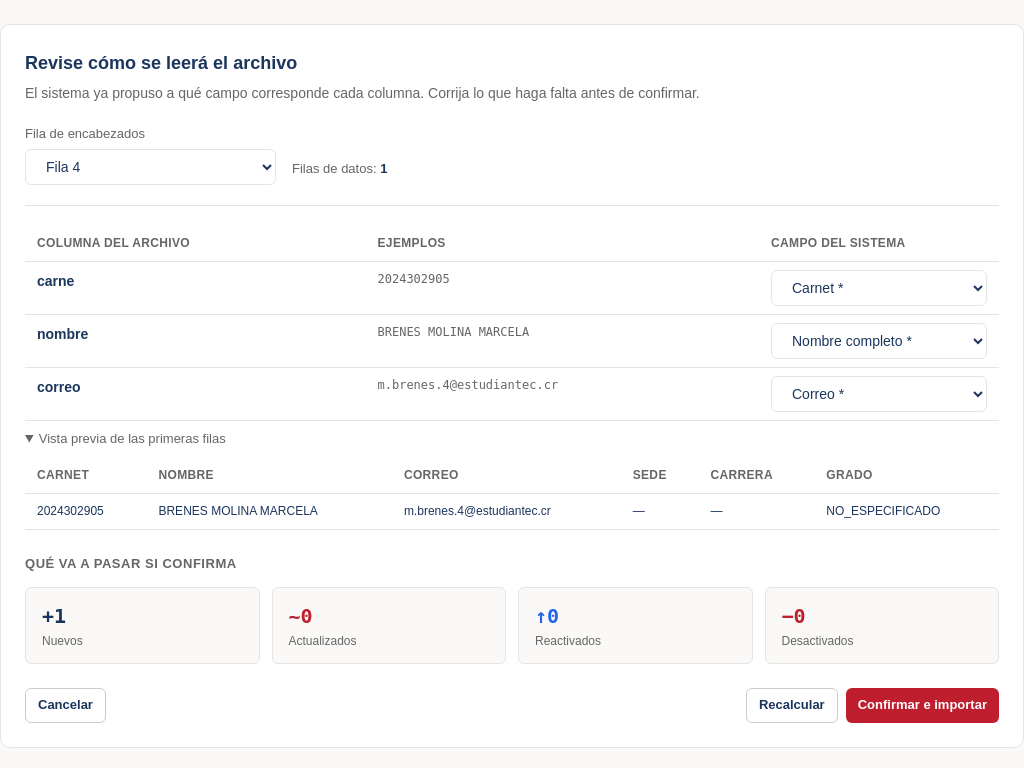
ColumnMapper › avisa y bloquea cuando falta un campo obligatorio
Select "— No importar —" in the dropdown named "Campo para la columna carne" at [879, 288], box [771, 270, 987, 306]
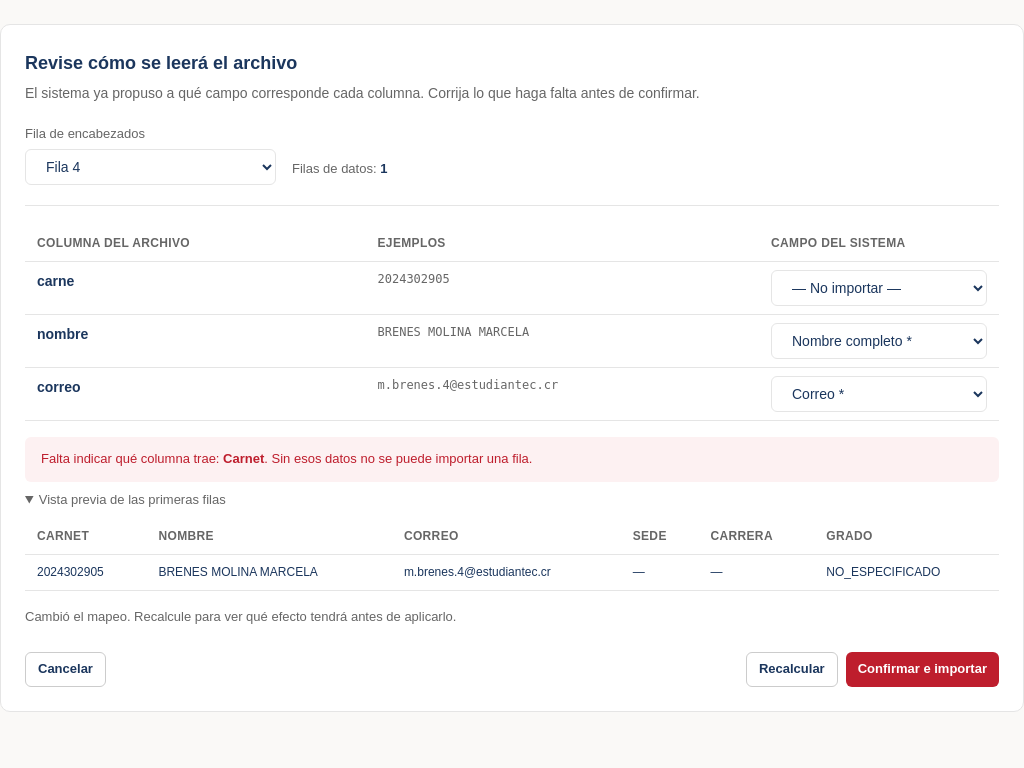
Expected: the message shows "Carnet", [223, 451, 264, 466]
Expected: the button "Confirmar e importar" is disabled, [846, 652, 999, 687]
Expected: the button "Recalcular" is disabled, [746, 652, 838, 687]
